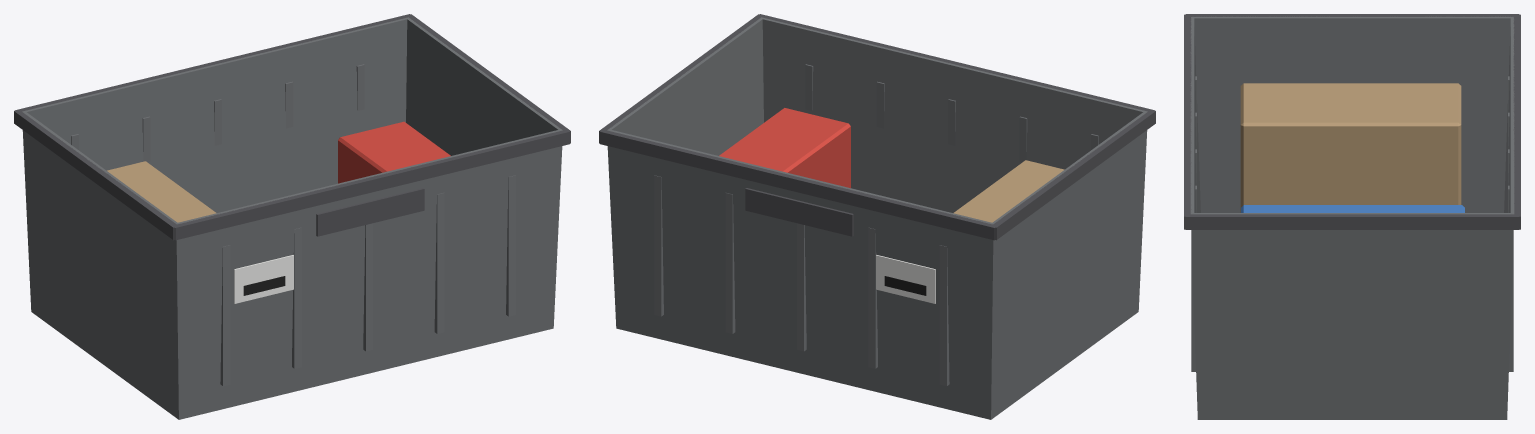
File: skypod_tote_v1.glb
3 views of the same model, side by side, from view 1: azimuth 30°, elevation 25°; view 2: azimuth 150°, elevation 25°; view 3: azimuth 270°, elevation 25° (orthographic). The views are drawn at different scales.
Visible parts, largest first — view 1: SkypodTote_v1; view 2: SkypodTote_v1; view 3: SkypodTote_v1.
Part boxes in pixels (x1,y1,x2,y2): SkypodTote_v1: (14,14,570,419); SkypodTote_v1: (599,14,1155,419); SkypodTote_v1: (1184,14,1520,419).
Size of the model in its own units: 0.668 by 0.32 by 0.468.
